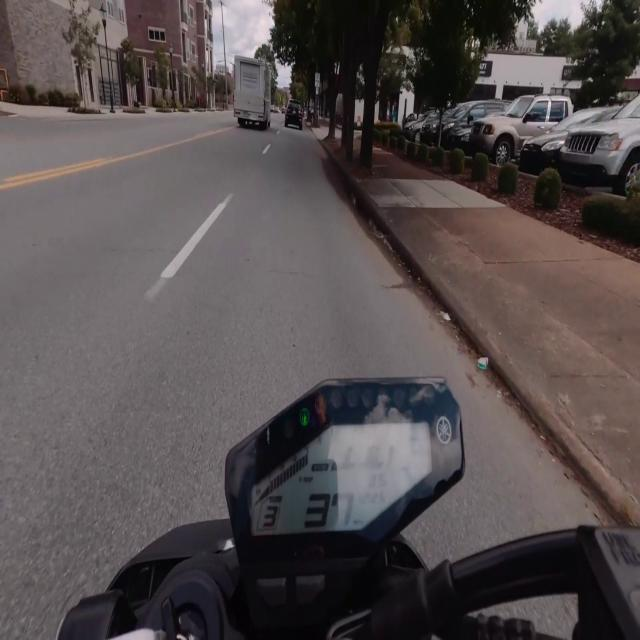car: (560, 97, 639, 195), (469, 95, 572, 165), (519, 107, 620, 174), (433, 100, 509, 149), (441, 101, 509, 155), (285, 99, 303, 130)
motorcycle: (58, 379, 639, 639)
